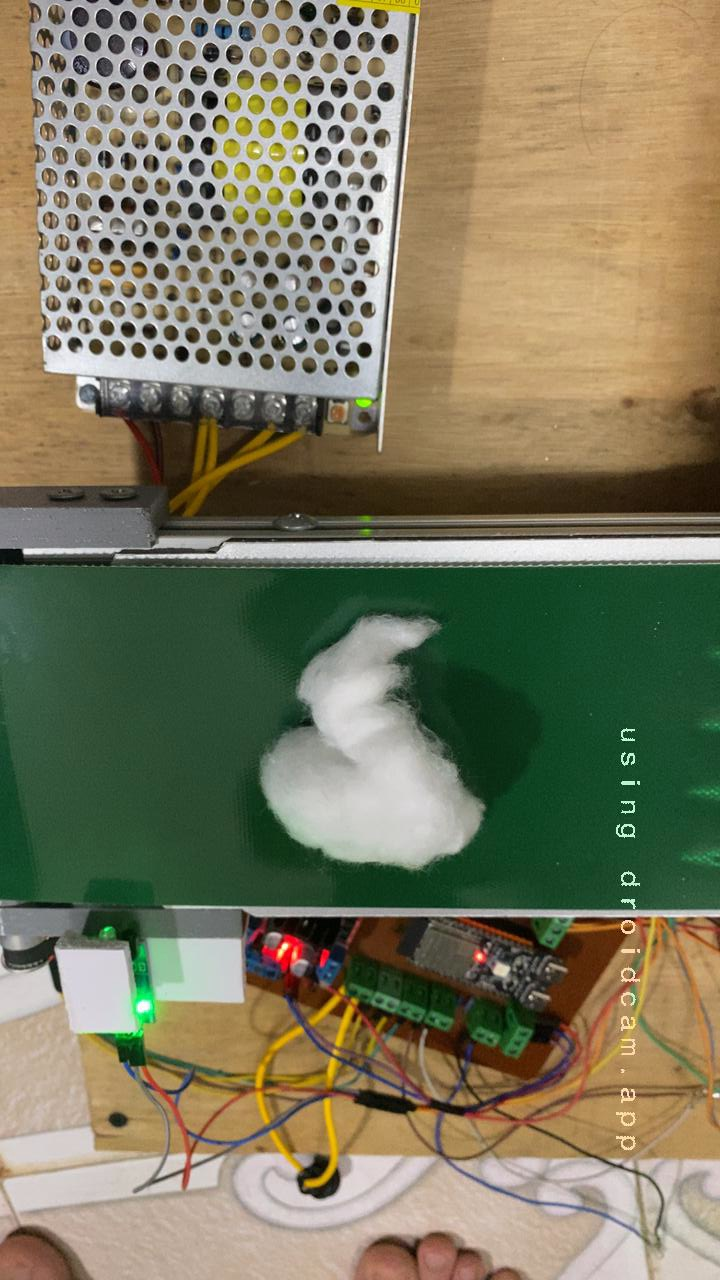cotton: (233, 592, 500, 881)
